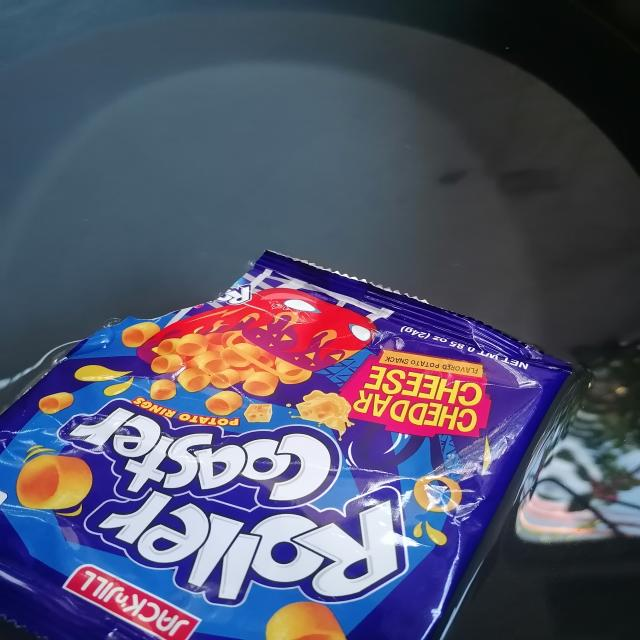Plastic Wrapper: (0, 233, 606, 640)
